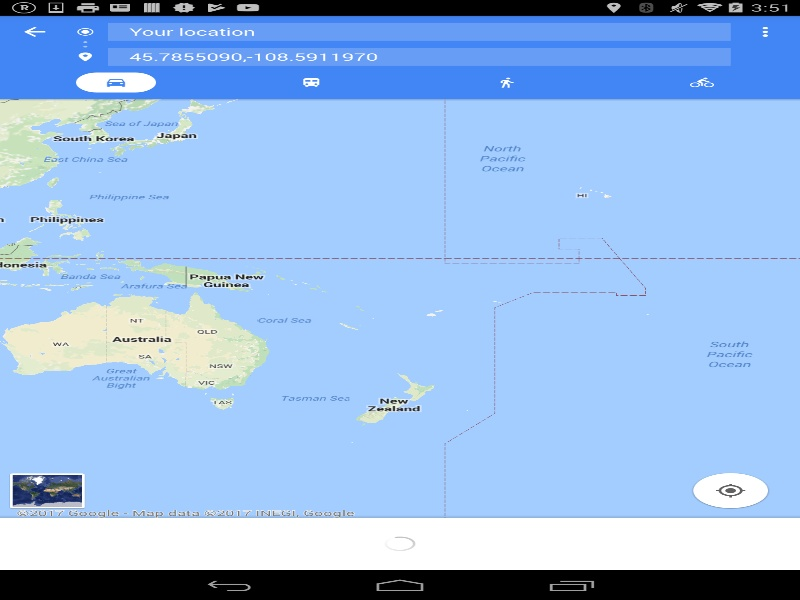Button: (12, 441, 82, 474)
Input: (108, 15, 730, 44), (108, 44, 730, 71)
